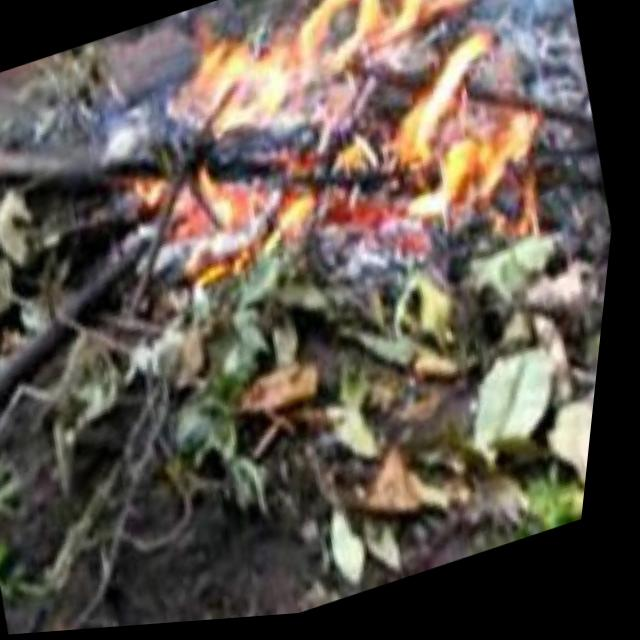Fire: (310, 24, 562, 296), (169, 0, 514, 154), (146, 129, 357, 305)
